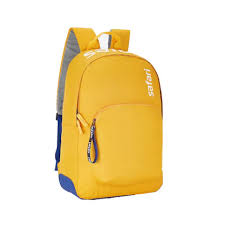backpack: (54, 26, 163, 200)
